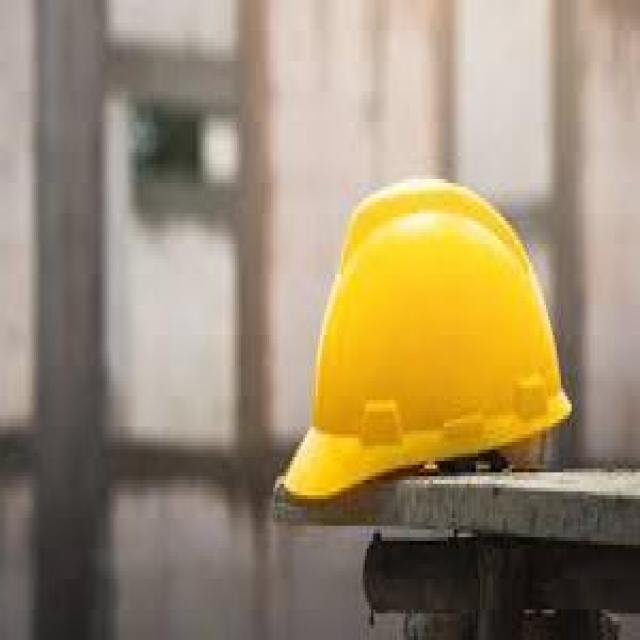safety_helmet: (268, 167, 593, 522)
